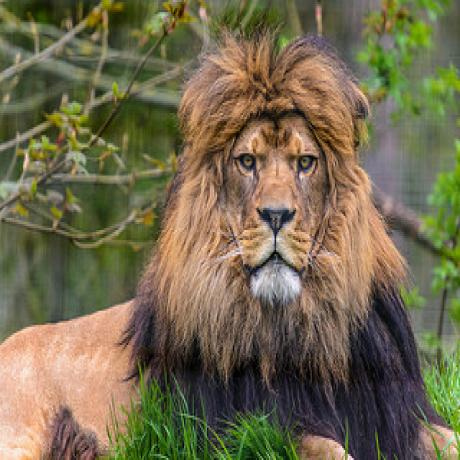Lion: (0, 34, 446, 460)
